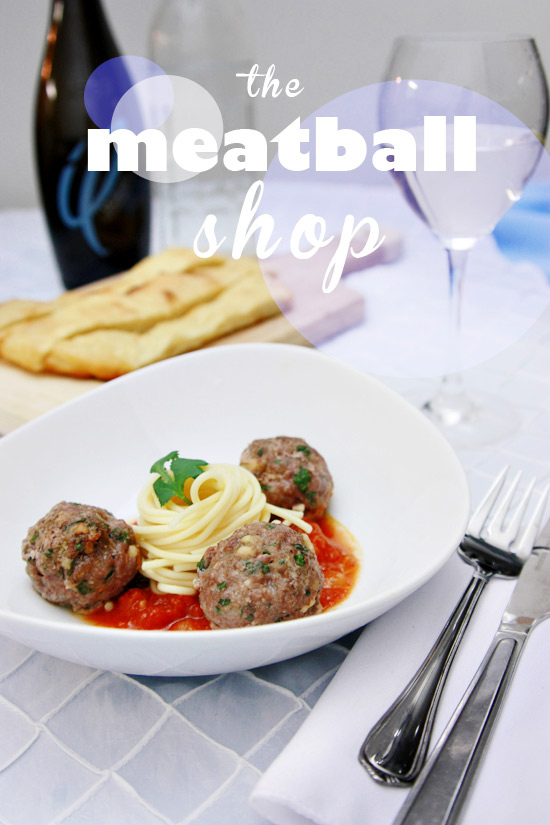meatballs: (183, 522, 315, 639), (29, 496, 118, 607), (243, 423, 339, 514)
plain spaghetti: (125, 471, 265, 581)
